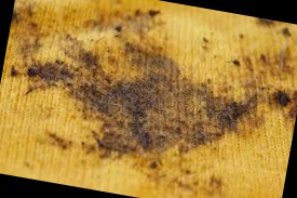earth: (76, 75, 232, 143), (95, 126, 165, 159), (136, 53, 175, 88), (26, 59, 71, 87), (230, 96, 257, 133), (75, 52, 104, 73), (269, 88, 292, 110)
